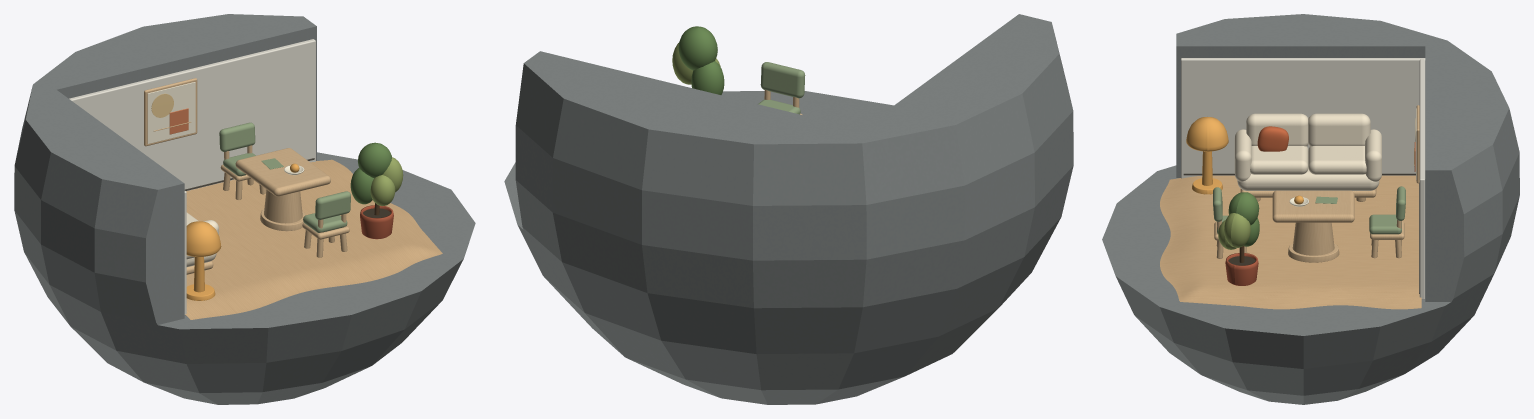
Rendered from roomlet-modified.glb.
3 renders of one model, left to right at view 1: azimuth 30°, elevation 25°; view 2: azimuth 150°, elevation 25°; view 3: azimuth 270°, elevation 25°, orthographic. The views are drawn at different scales.
Visible parts, largest first — view 1: Shell_Stone_LowPoly, Floor_Rectangular_Oak, Wall_Back, Table_Oak_Top, Art_Matte_Field, Lamp_Mushroom_Dome, Table_Tapered_Pedestal, Plant_Leaf_Cluster_3, Chair_01_Round_Back, Plant_Rounded_Pot, Chair_02_Round_Back, Art_Oak_Frame (+6 smaller); view 2: Shell_Stone_LowPoly, Plant_Leaf_Cluster_3, Chair_02_Round_Back, Plant_Leaf_Cluster_1; view 3: Shell_Stone_LowPoly, Floor_Rectangular_Oak, Wall_Left, Table_Oak_Top, Sofa_Puffy_Base, Sofa_Back_02, Sofa_Seat_02, Sofa_Seat_01, Sofa_Back_01, Wall_Back, Table_Tapered_Pedestal, Lamp_Mushroom_Dome (+9 smaller).
Boxes of the visible parts, box(x1,y1,x2,y2) form: Shell_Stone_LowPoly: box(14, 14, 475, 404); Floor_Rectangular_Oak: box(185, 159, 442, 319); Wall_Back: box(69, 39, 315, 191); Table_Oak_Top: box(235, 148, 330, 196); Art_Matte_Field: box(147, 82, 195, 143); Lamp_Mushroom_Dome: box(186, 221, 221, 256); Table_Tapered_Pedestal: box(264, 189, 302, 223); Plant_Leaf_Cluster_3: box(358, 142, 391, 177); Chair_01_Round_Back: box(219, 122, 255, 151); Plant_Rounded_Pot: box(360, 205, 393, 239); Chair_02_Round_Back: box(315, 191, 350, 219); Art_Oak_Frame: box(144, 78, 197, 146); Shell_Stone_LowPoly: box(504, 14, 1073, 404); Plant_Leaf_Cluster_3: box(678, 26, 717, 70); Chair_02_Round_Back: box(760, 62, 805, 98); Plant_Leaf_Cluster_1: box(691, 61, 724, 94); Shell_Stone_LowPoly: box(1102, 14, 1519, 404); Floor_Rectangular_Oak: box(1160, 175, 1421, 309); Wall_Left: box(1181, 58, 1425, 179); Table_Oak_Top: box(1272, 190, 1354, 222); Sofa_Puffy_Base: box(1237, 168, 1379, 190); Sofa_Back_02: box(1308, 113, 1370, 146); Sofa_Seat_02: box(1308, 146, 1366, 174); Sofa_Seat_01: box(1250, 146, 1308, 174); Sofa_Back_01: box(1246, 113, 1308, 146); Wall_Back: box(1419, 59, 1424, 299); Table_Tapered_Pedestal: box(1292, 222, 1334, 255); Lamp_Mushroom_Dome: box(1186, 117, 1228, 151).
Size of the model in its own units: 7.09 by 4.63 by 6.41.
18 materials, 6 textured.
